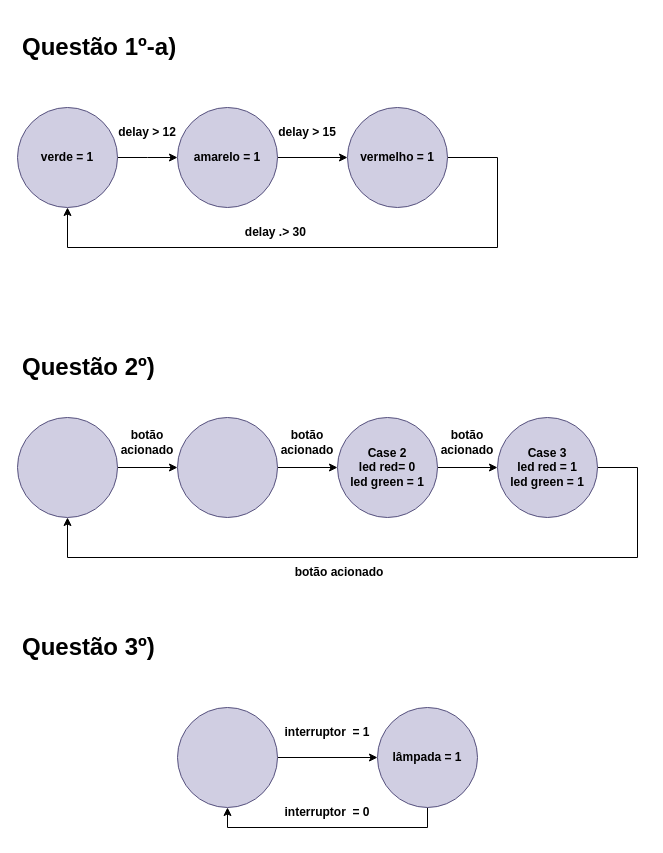
Image size: 663x853. Some labels were removed from this diagram. Here are the shapes that lost their labels. From the top down, the centre of each, then its label:
At pixel 67 467: "Case 0 led red = 0 led green = 0".
At pixel 227 467: "Case 1 led red = 1 led green = 0".
At pixel 227 757: "lâmpada = 0".
